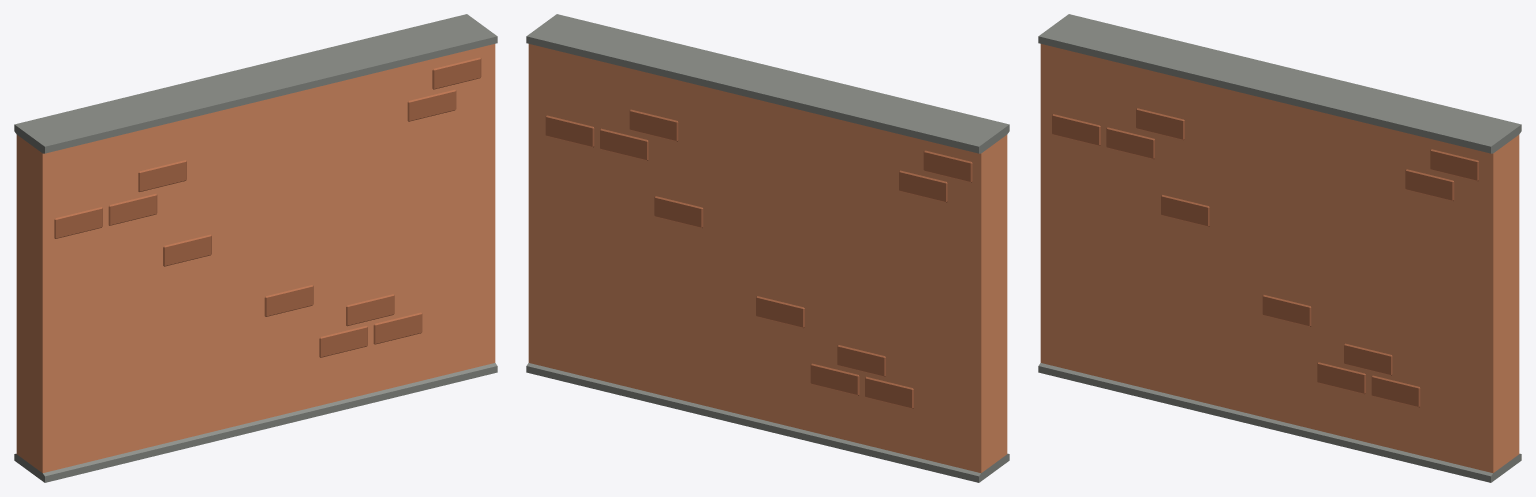
The model's file is SandWall1.fbx.
The picture shows the model from 3 angles, left to right: view 1: azimuth 30°, elevation 25°; view 2: azimuth 150°, elevation 25°; view 3: azimuth 330°, elevation 25°; orthographic projection.
Visible parts, largest first — view 1: Cube; view 2: Cube; view 3: Cube.
Boxes of the visible parts, x1,y1,x2,y2 form: Cube: (14, 14, 497, 482); Cube: (526, 14, 1009, 482); Cube: (1038, 14, 1521, 482).
Size of the model in its own units: 2000 by 1420 by 233.
